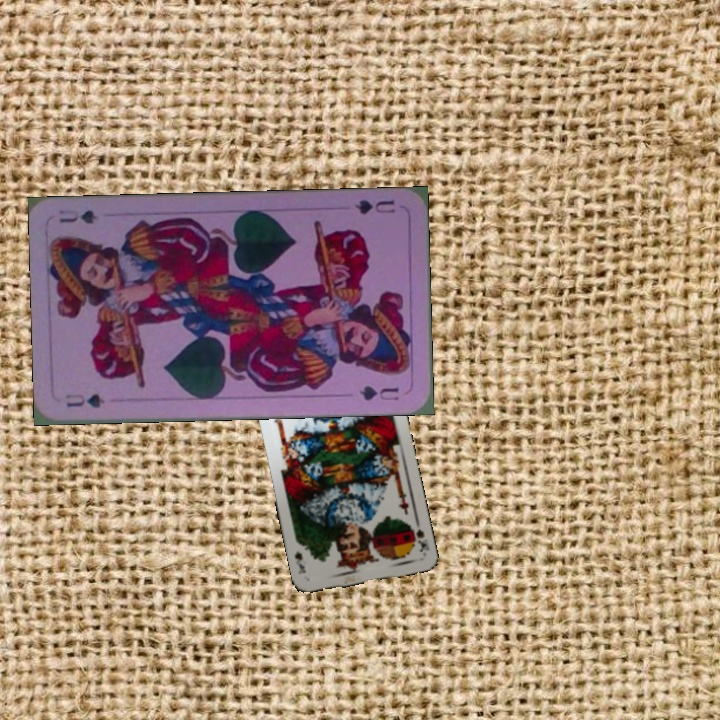GU: (351, 196, 398, 217), (62, 389, 107, 410)
SK: (406, 515, 432, 554)
